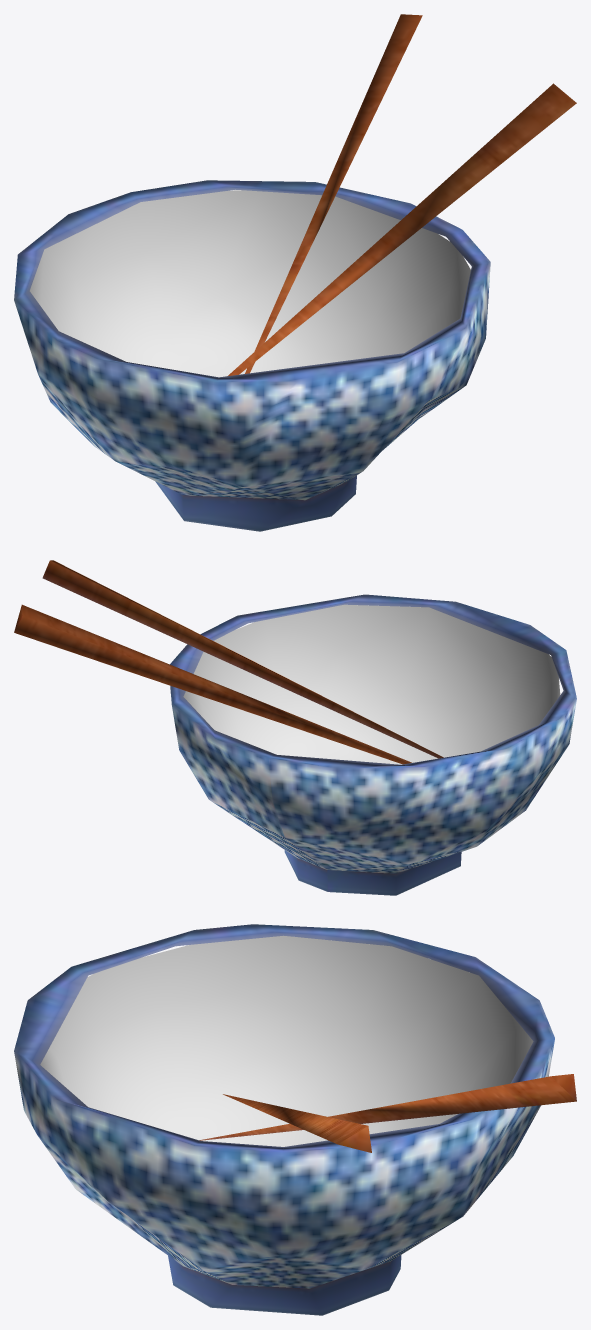
Rendered from Dishes.glb.
3 views of the same model, one above another, from view 1: azimuth 30°, elevation 25°; view 2: azimuth 150°, elevation 25°; view 3: azimuth 270°, elevation 25° (orthographic). The views are drawn at different scales.
Parts seen in each view (by area): view 1: W W; view 2: W W; view 3: W W.
Part boxes in pixels (x1,y1,x2,y2): W W: (14, 14, 576, 531); W W: (14, 560, 576, 895); W W: (14, 924, 576, 1315).
Size of the model in its own units: 0.91 by 0.4896 by 0.7117.
Materials: 2 (1 with a texture image).
